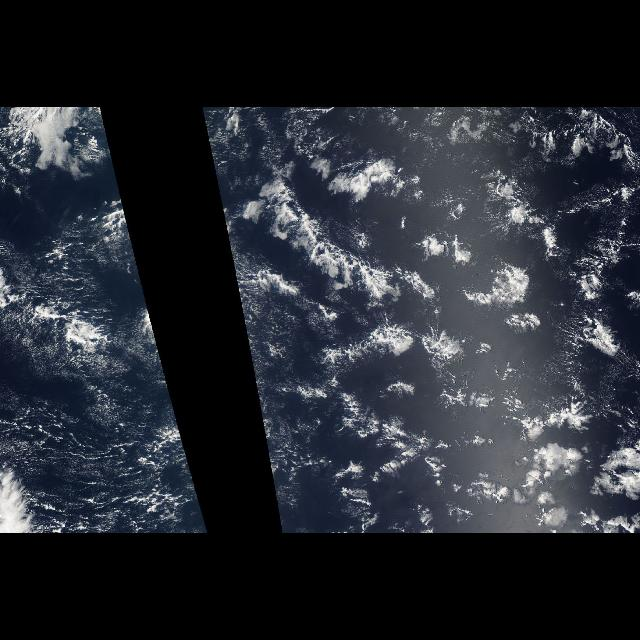Fish: (223, 164, 542, 410)
Flower: (245, 142, 640, 530)
Sugar: (1, 212, 140, 334)
